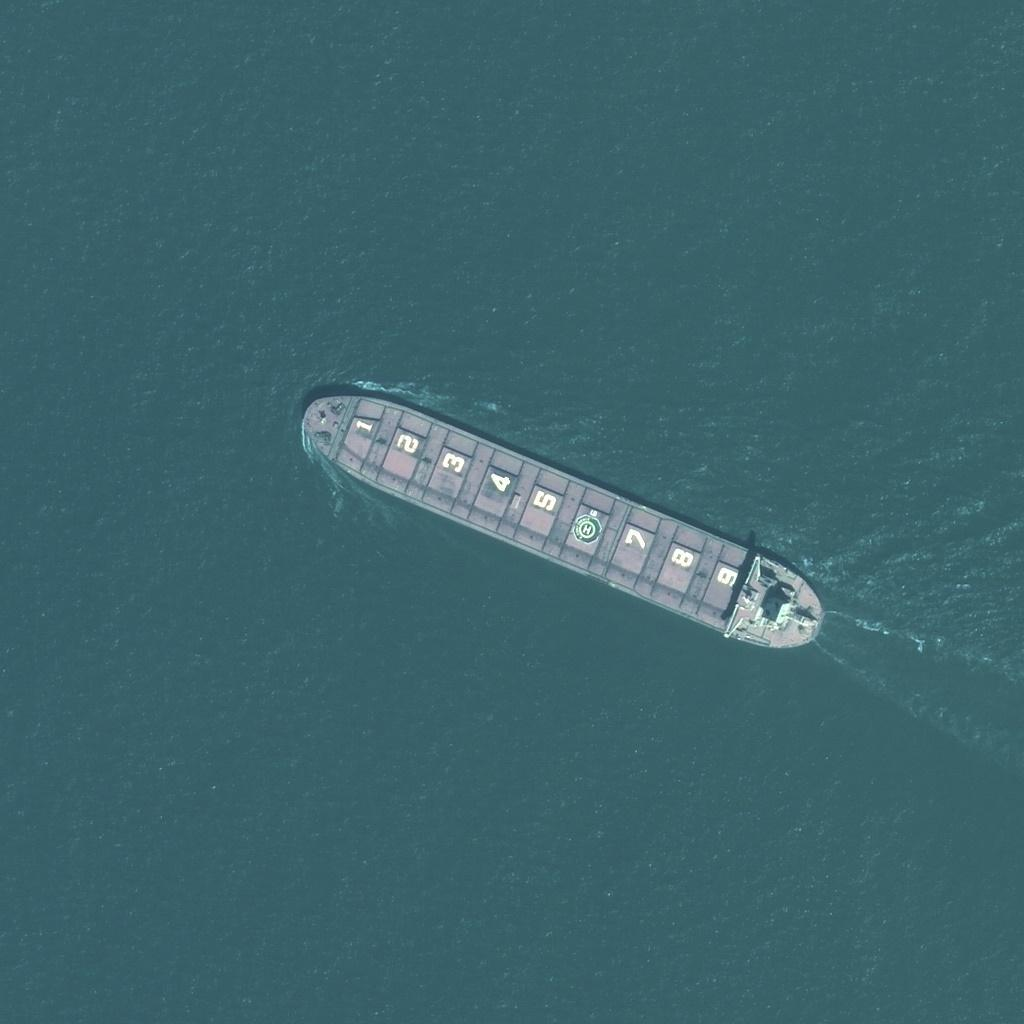ship: (300, 386, 834, 652)
